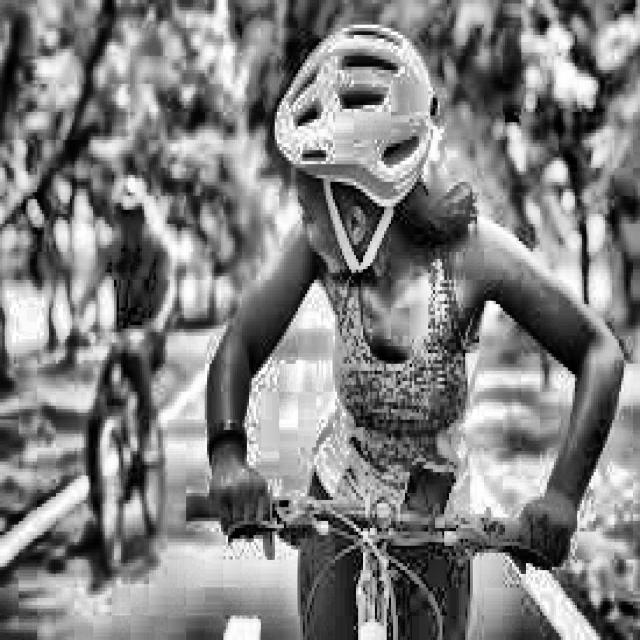Helmet: (275, 23, 440, 302)
